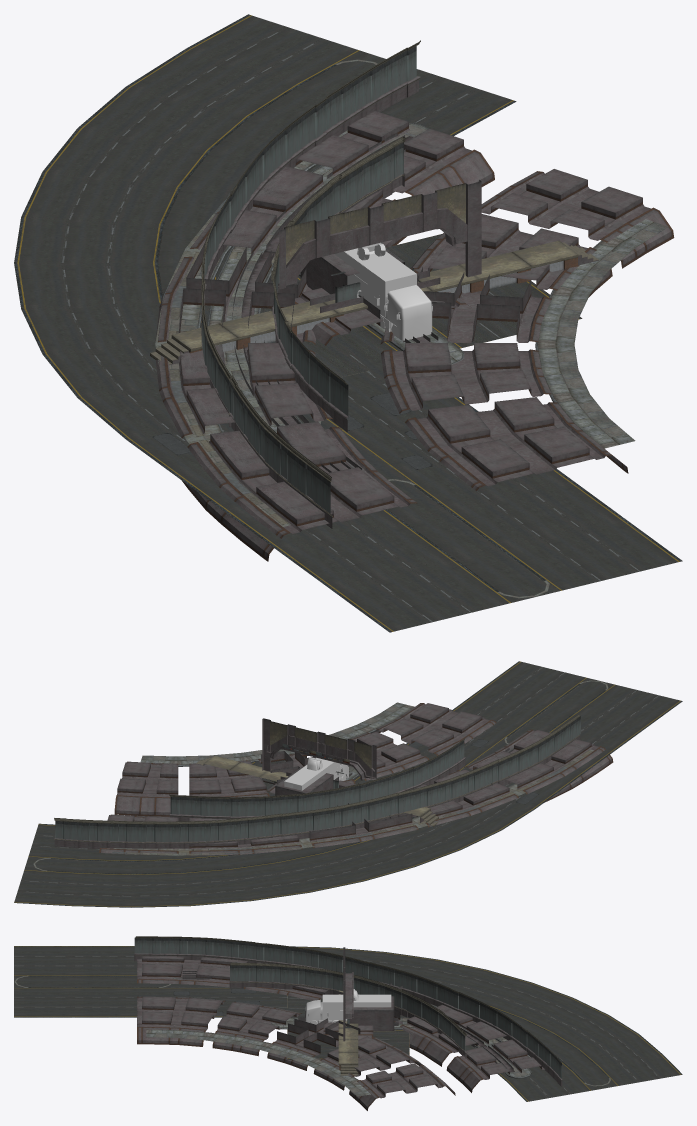
File: Env_Z03_Tunnel.fbx
3 renders of one model, top to bottom at view 1: azimuth 30°, elevation 25°; view 2: azimuth 150°, elevation 25°; view 3: azimuth 270°, elevation 25°, orthographic. The views are drawn at different scales.
Parts seen in each view (by area): view 1: Roads_02.001, Core_A_01.001, Roads_Tunnel_Pillar_A.002, Roads_Piece_02.001, Core_X_02, Core_Stair_01.002, Roads_Tunnel_Pillar_A.001, Roads_01, Vehicle_Car_006, Roads_Piece_04.001, Core_A_03.029, Core_A_04.001 (+1 smaller); view 2: Roads_02.001, Core_A_01.001, Roads_Tunnel_Pillar_A.002, Roads_Tunnel_Pillar_A.001, Roads_Piece_02.001, Core_X_02, Core_Stair_01.002, Vehicle_Car_006, Core_Room.001; view 3: Roads_02.001, Core_A_01.001, Roads_Tunnel_Pillar_A.002, Roads_Tunnel_Pillar_A.001, Roads_Piece_02.001, Vehicle_Car_006, Roads_01, Core_Stair_01.002, Core_Room.001, Core_X_02, Core_A_03.029, Roads_Piece_04.001 (+1 smaller).
Boxes of the visible parts, <box> form: Roads_02.001: <box>14,14,682,632</box>; Core_A_01.001: <box>155,111,674,561</box>; Roads_Tunnel_Pillar_A.002: <box>201,40,420,528</box>; Roads_Piece_02.001: <box>155,130,668,527</box>; Core_X_02: <box>278,180,481,289</box>; Core_Stair_01.002: <box>150,240,598,365</box>; Roads_Tunnel_Pillar_A.001: <box>271,136,405,431</box>; Roads_01: <box>200,233,582,377</box>; Vehicle_Car_006: <box>344,248,432,340</box>; Roads_Piece_04.001: <box>207,123,427,467</box>; Core_A_03.029: <box>232,133,413,472</box>; Core_A_04.001: <box>295,268,468,345</box>; Roads_02.001: <box>14,661,682,907</box>; Core_A_01.001: <box>99,703,613,855</box>; Roads_Tunnel_Pillar_A.002: <box>54,714,580,848</box>; Roads_Tunnel_Pillar_A.001: <box>169,738,465,821</box>; Roads_Piece_02.001: <box>112,702,593,855</box>; Core_X_02: <box>262,718,376,780</box>; Core_Stair_01.002: <box>196,755,439,827</box>; Vehicle_Car_006: <box>284,757,349,790</box>; Core_Room.001: <box>275,767,333,795</box>; Roads_02.001: <box>14,946,682,1101</box>; Core_A_01.001: <box>137,956,544,1110</box>; Roads_Tunnel_Pillar_A.002: <box>134,936,562,1086</box>; Roads_Tunnel_Pillar_A.001: <box>229,962,467,1058</box>; Roads_Piece_02.001: <box>146,1004,530,1096</box>; Vehicle_Car_006: <box>305,994,391,1024</box>; Roads_01: <box>287,995,409,1059</box>; Core_Stair_01.002: <box>338,990,358,1075</box>; Core_Room.001: <box>349,996,395,1031</box>; Core_X_02: <box>343,947,353,1041</box>; Core_A_03.029: <box>182,971,517,1072</box>; Roads_Piece_04.001: <box>172,968,531,1078</box>.
Bounding box in the file's own units: 56.56 × 11.31 × 102.
